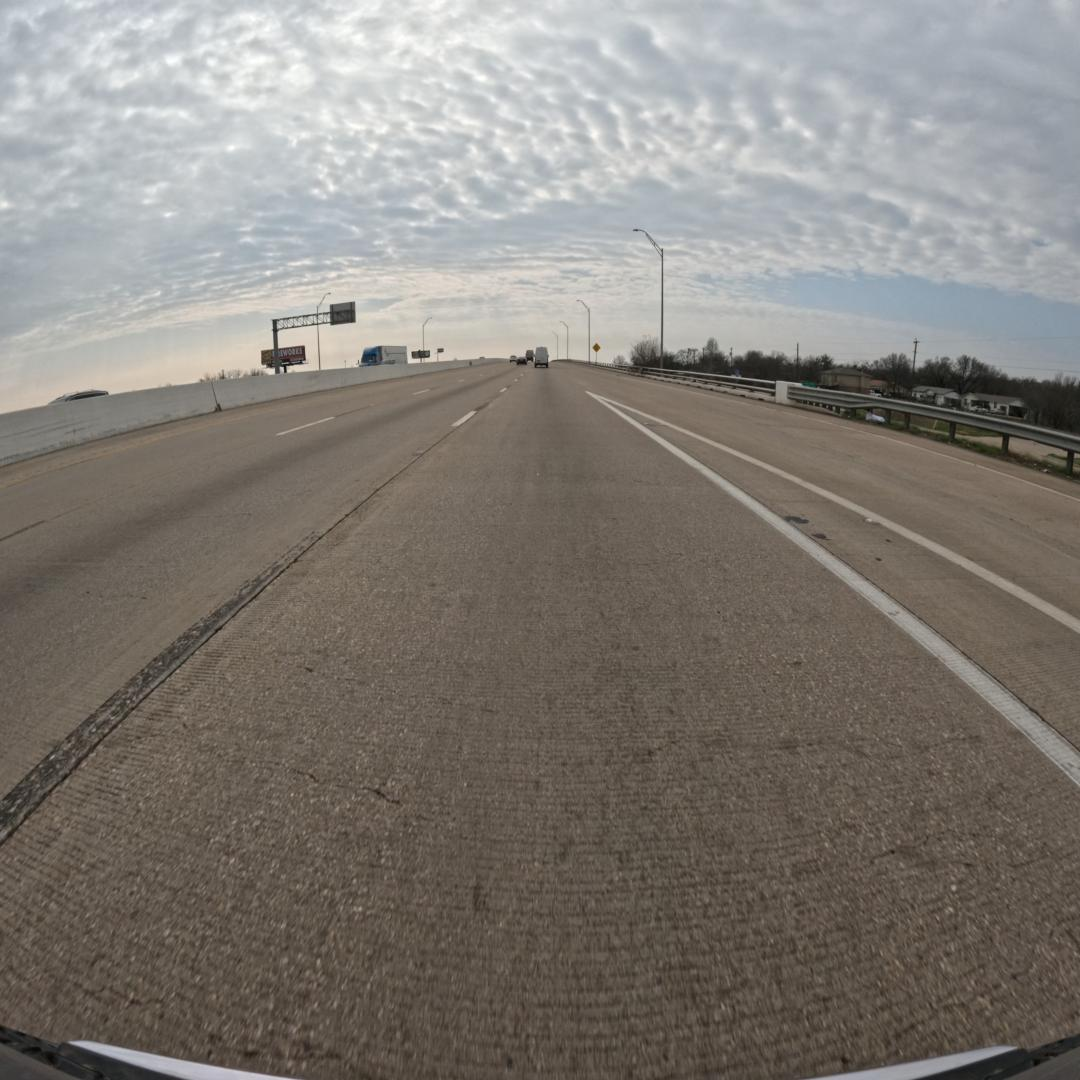lane0: (0, 371, 1080, 1076)
lane1: (0, 370, 520, 840)
